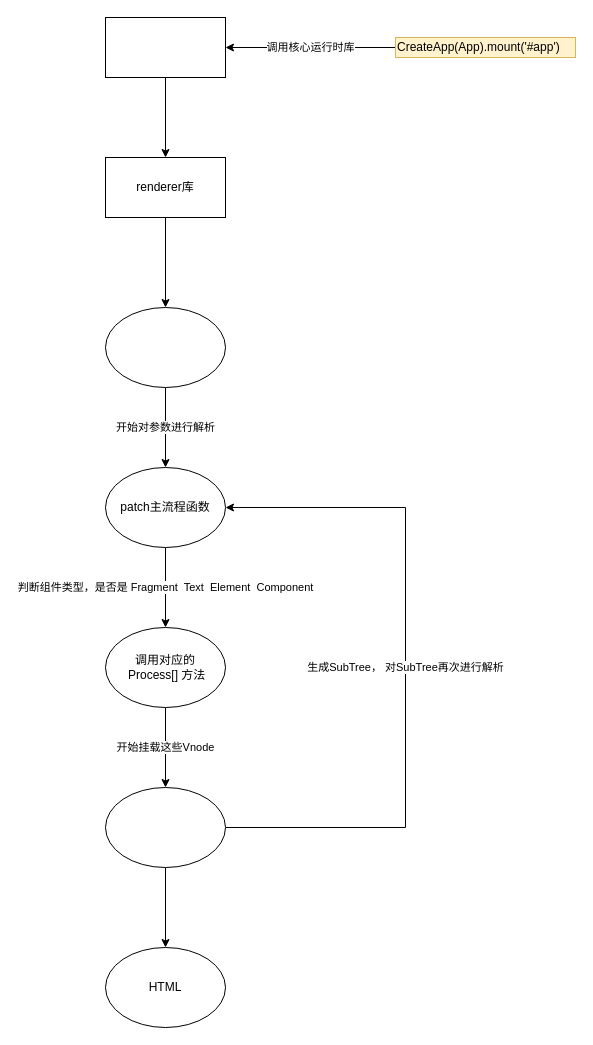
The diagram is 593 pixels wide and 1045 high, and some of its shapes have lost their labels. The shapes that lost their labels are listed below. From the top down, each one's centre as x and y in pixels, then its label:
At point 165,47: "runtime-core".
At point 165,347: "开始调用render方法".
At point 165,827: "mountComponent mountElement mountChildren".
